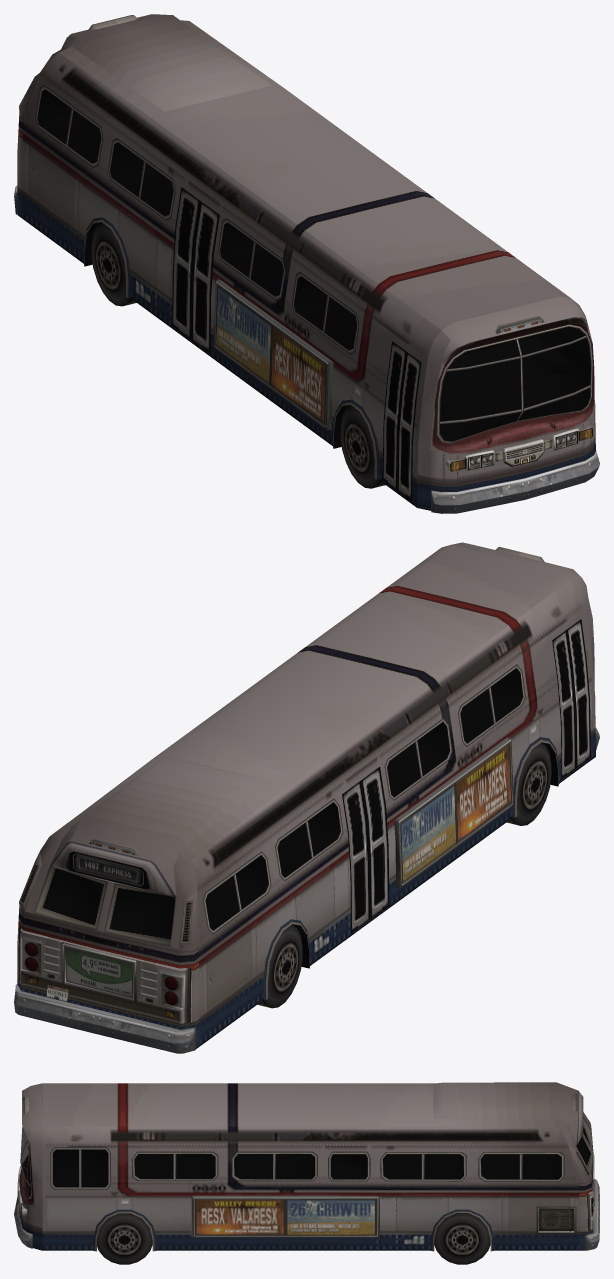
Rendered from city_bus_traffic_burnout_3.glb.
3 views of the same model, one above another, from view 1: azimuth 30°, elevation 25°; view 2: azimuth 150°, elevation 25°; view 3: azimuth 270°, elevation 25° (orthographic). The views are drawn at different scales.
Parts seen in each view (by area): view 1: Car19_Body_0000_0000, Car19_Body_0000_0001, Car19_Body_0000_0007, Car19_Body_Part_0000_0000, Car19_Wheel_0002_0000, Car19_Wheel_0000_0000, Car19_Body_0000_0002; view 2: Car19_Body_0000_0000, Car19_Body_0000_0001, Car19_Body_0000_0007, Car19_Body_Part_0001_0000, Car19_Body_Part_0002_0000, Car19_Wheel_0002_0000, Car19_Wheel_0000_0000; view 3: Car19_Body_0000_0000, Car19_Body_0000_0001, Car19_Body_0000_0007, Car19_Wheel_0003_0000, Car19_Wheel_0001_0000, Car19_Body_Part_0001_0000, Car19_Body_Part_0000_0000.
Part boxes in pixels (box(x1,y1,x2,y2)): Car19_Body_0000_0000: box(17, 14, 595, 510); Car19_Body_0000_0001: box(37, 90, 592, 448); Car19_Body_0000_0007: box(37, 90, 590, 441); Car19_Body_Part_0000_0000: box(431, 450, 599, 513); Car19_Wheel_0002_0000: box(91, 222, 136, 306); Car19_Wheel_0000_0000: box(340, 405, 385, 488); Car19_Body_0000_0002: box(468, 431, 578, 469); Car19_Body_0000_0000: box(17, 542, 595, 1048); Car19_Body_0000_0001: box(18, 668, 558, 1029); Car19_Body_0000_0007: box(43, 668, 522, 938); Car19_Body_Part_0001_0000: box(14, 984, 195, 1053); Car19_Body_Part_0002_0000: box(62, 942, 137, 1002); Car19_Wheel_0002_0000: box(257, 925, 302, 1008); Car19_Wheel_0000_0000: box(506, 742, 551, 825); Car19_Body_0000_0000: box(17, 1082, 593, 1251); Car19_Body_0000_0001: box(28, 1116, 593, 1235); Car19_Body_0000_0007: box(20, 1126, 590, 1196); Car19_Wheel_0003_0000: box(434, 1213, 490, 1264); Car19_Wheel_0001_0000: box(97, 1213, 152, 1264); Car19_Body_Part_0001_0000: box(585, 1179, 599, 1250); Car19_Body_Part_0000_0000: box(14, 1196, 32, 1248).
Bounding box in the file's own units: 0.027 × 0.0283 × 0.108.
Materials: 2 (1 with a texture image).
